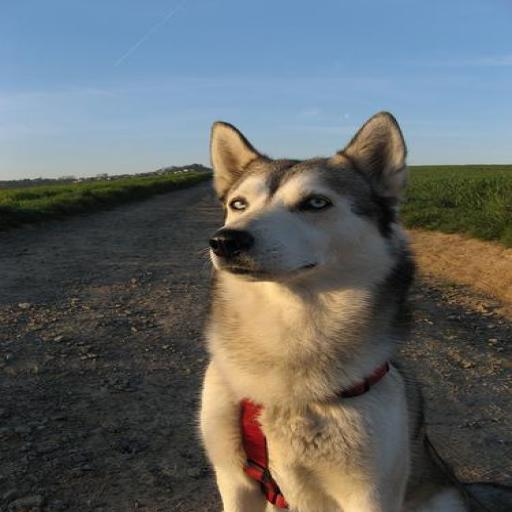dog_face: (190, 110, 415, 283)
